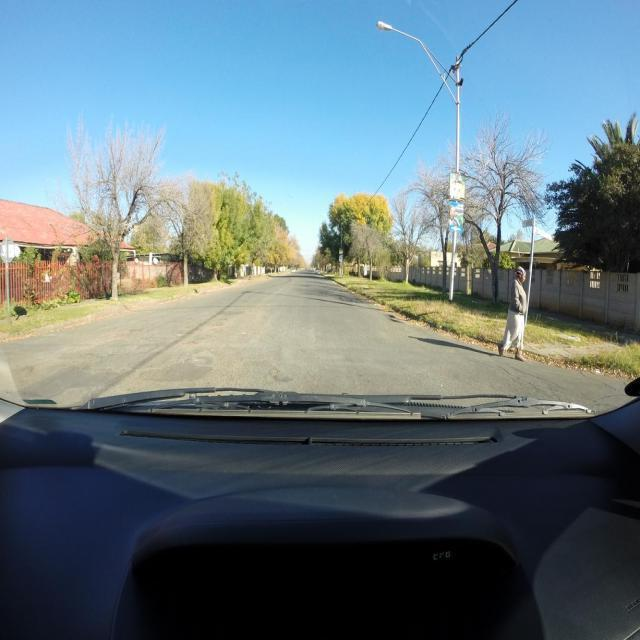pothole: (198, 324, 224, 330), (17, 366, 33, 374), (183, 342, 199, 347), (217, 319, 227, 321)
